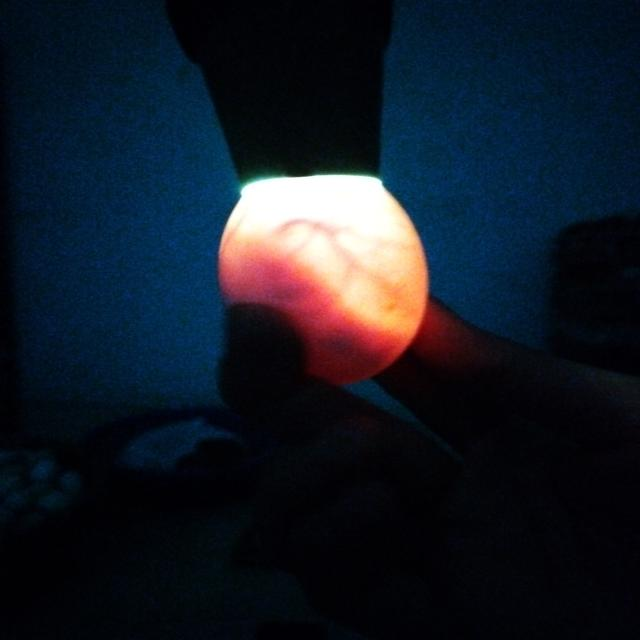Embriao: (216, 238, 410, 384)
